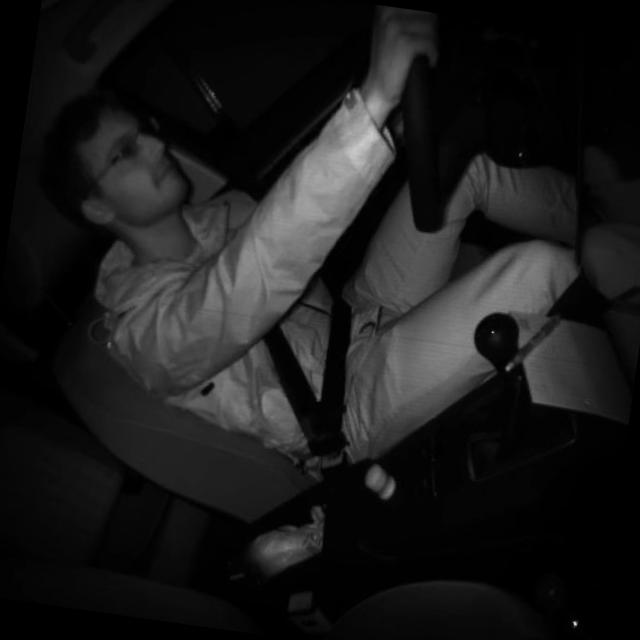pen: (502, 302, 566, 381)
